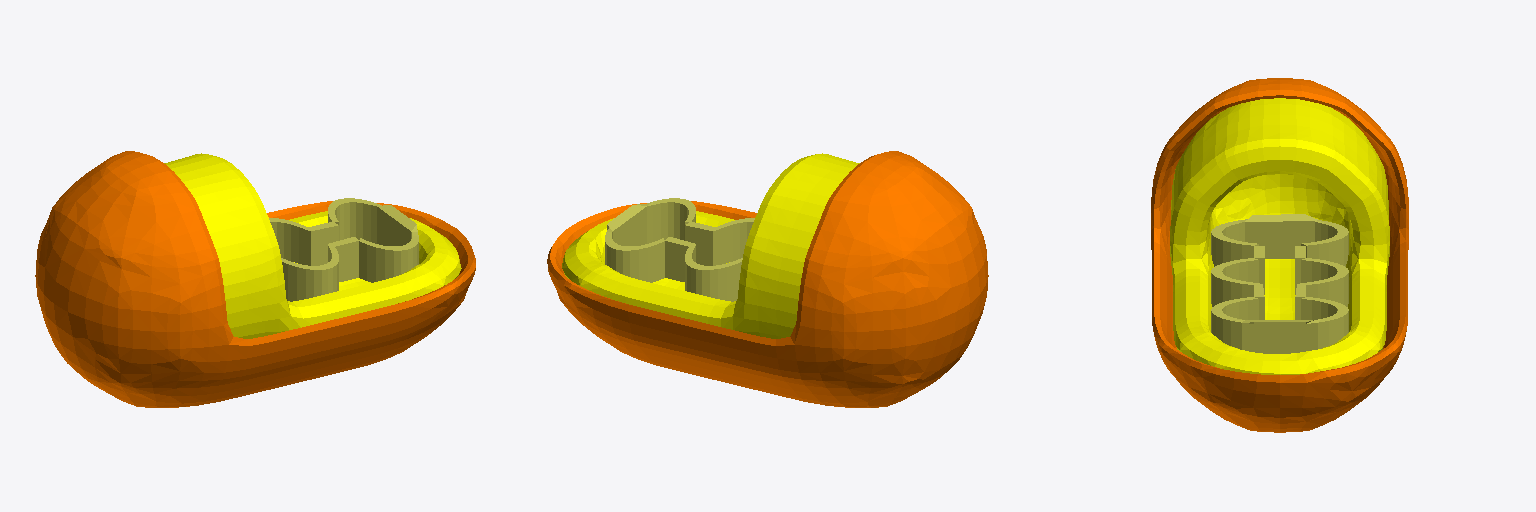
Rendered from mitochondrion.obj.
The picture shows the model from 3 angles: view 1: azimuth 30°, elevation 25°; view 2: azimuth 150°, elevation 25°; view 3: azimuth 270°, elevation 25°; orthographic projection.
Visible parts, largest first — view 1: Mball.001_Mesh, Mball.002_Mesh.001, Cylinder; view 2: Mball.001_Mesh, Mball.002_Mesh.001, Cylinder; view 3: Mball.002_Mesh.001, Mball.001_Mesh, Cylinder.
Boxes of the visible parts, x1,y1,x2,y2 form: Mball.001_Mesh: [35, 151, 475, 407]; Mball.002_Mesh.001: [164, 153, 461, 338]; Cylinder: [269, 198, 418, 301]; Mball.001_Mesh: [547, 151, 988, 407]; Mball.002_Mesh.001: [562, 153, 859, 338]; Cylinder: [605, 198, 754, 301]; Mball.002_Mesh.001: [1170, 98, 1389, 374]; Mball.001_Mesh: [1151, 78, 1408, 432]; Cylinder: [1211, 214, 1348, 353].
Bounding box in the file's own units: 45.31 × 25.43 × 25.12.